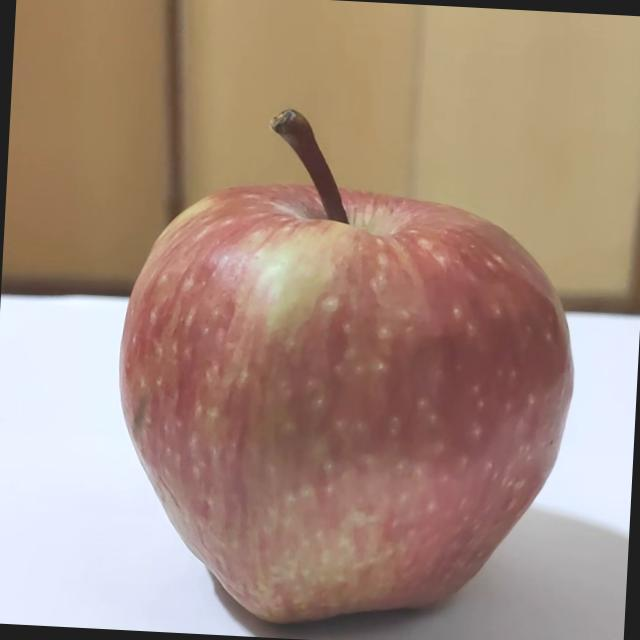apple: (100, 91, 585, 636)
